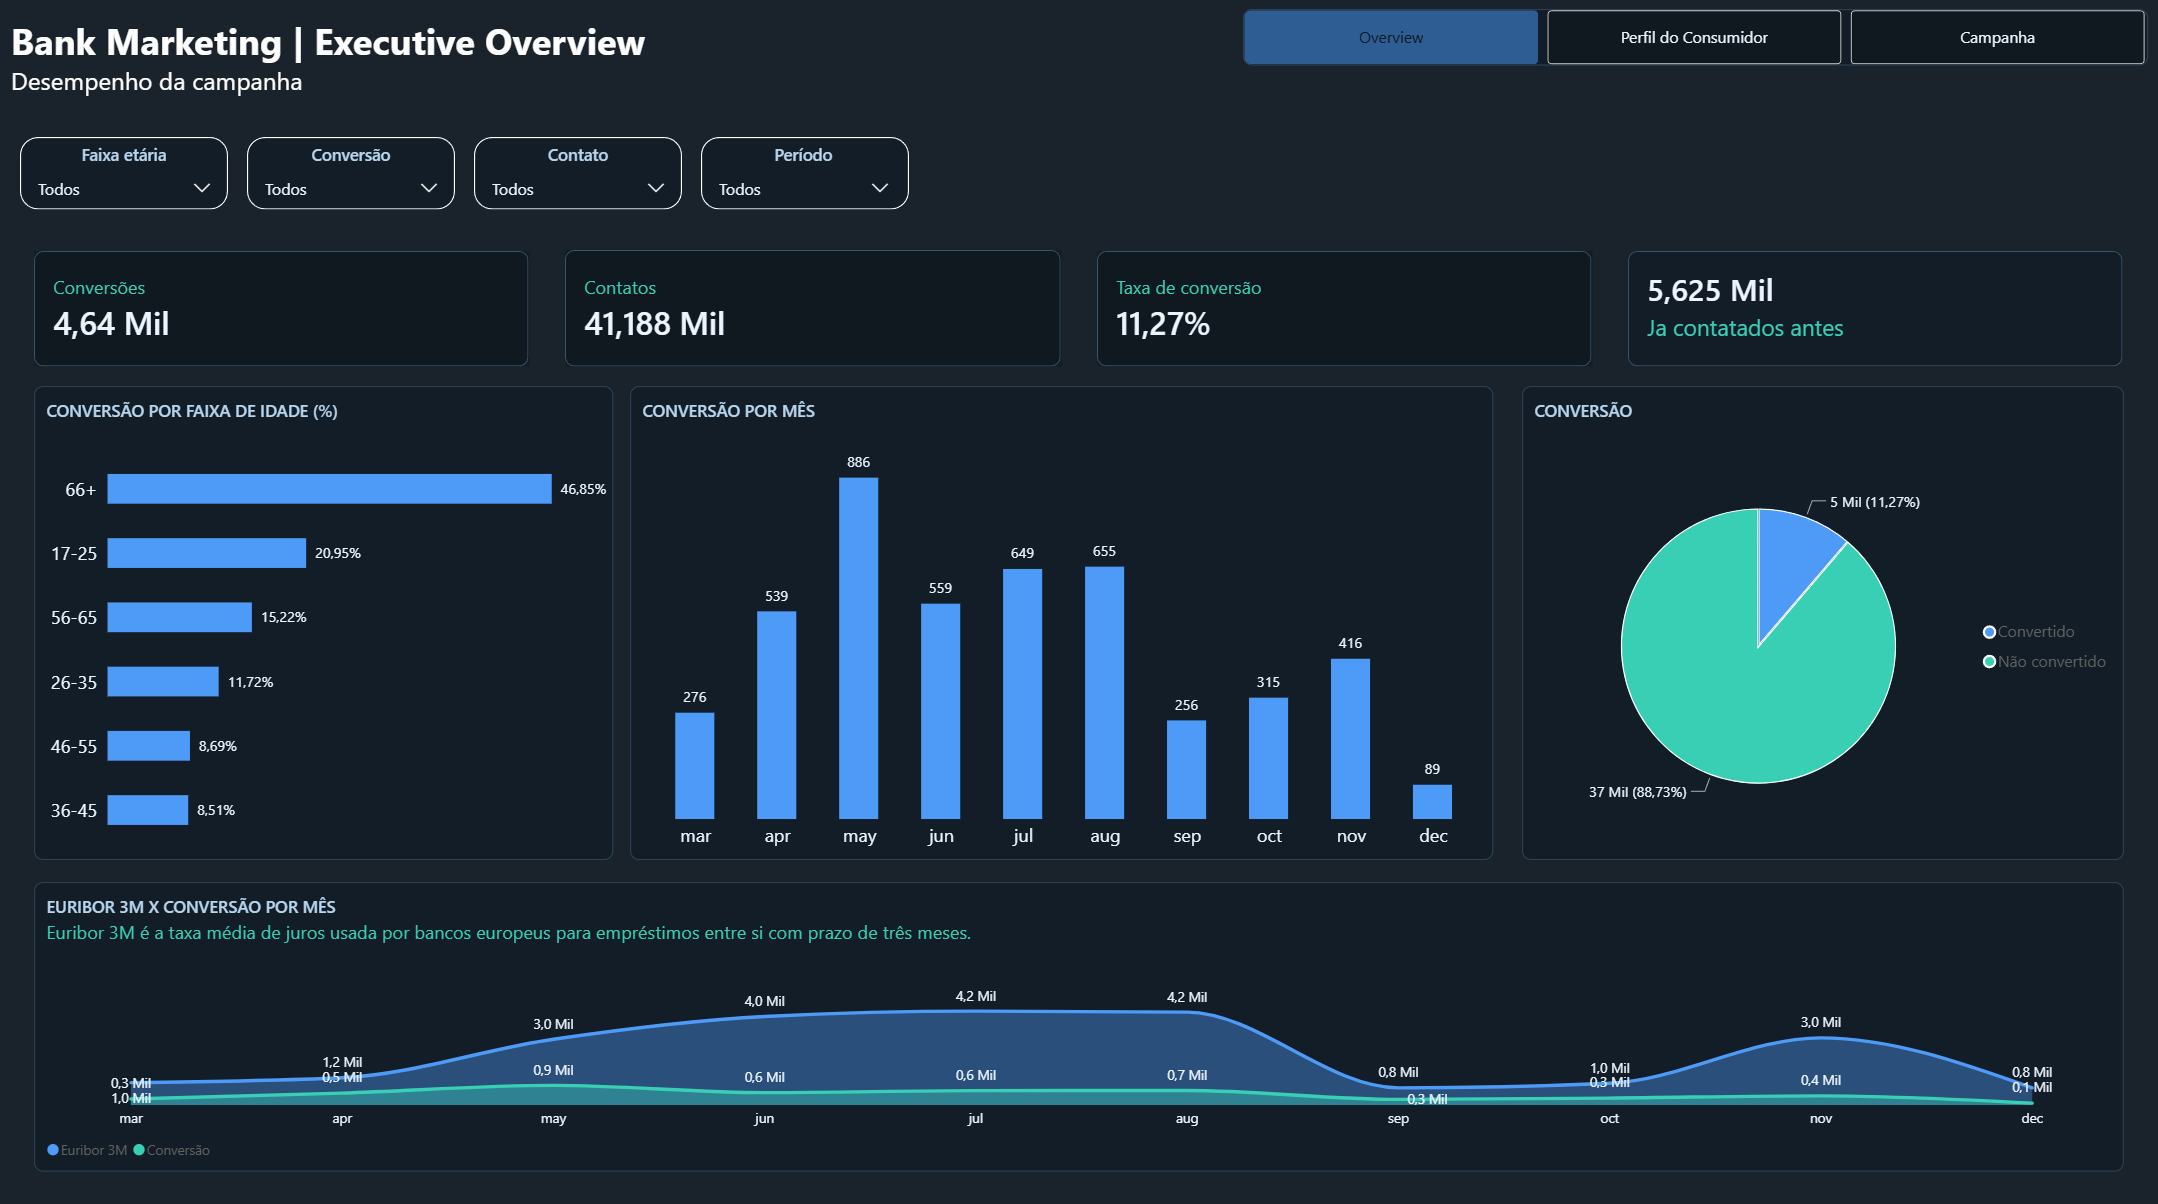

The page's visual inventory and layout, read from the dashboard file:
{"tool":"powerbi","page":{"name":"Overview","canvas":[1920,1080],"ordinal":0},"visuals":[{"type":"cardVisual","fields":{"Data":["vw_bank_marketing.Total Contacts"]},"box":[505.9,227.6,438.6,103.2],"z":0},{"type":"cardVisual","fields":{"Data":["vw_bank_marketing.Conversions"]},"box":[35.9,228.5,437.7,102.3],"z":1000},{"type":"cardVisual","fields":{"Data":["vw_bank_marketing.Conversion Rate"]},"box":[975.9,228.5,437.7,102.3],"z":2000},{"type":"cardVisual","title":"A","fields":{"Data":["vw_bank_marketing.Contacted Before"]},"box":[1444.9,228.5,437.7,102.3],"z":3000},{"type":"clusteredBarChart","title":"CONVERSÃO POR FAIXA DE IDADE (%)","fields":{"Category":["vw_bank_marketing.age_group"],"Y":["vw_bank_marketing.Conversion Rate"]},"box":[35.9,348.3,512.5,418.7],"z":4000},{"type":"clusteredColumnChart","title":"CONVERSÃO POR MÊS","fields":{"Category":["vw_bank_marketing.month"],"Y":["Sum(vw_bank_marketing.converted)"]},"box":[563,348.3,763.2,418.7],"z":5000},{"type":"shape","box":[224.7,128.1,183.8,64.1],"z":6000},{"type":"shape","box":[425.2,128.1,183.8,64.1],"z":7000},{"type":"shape","box":[625.8,128.1,183.8,64.1],"z":8000},{"type":"pieChart","title":"CONVERSÃO","fields":{"Y":["vw_bank_marketing.Convertido","vw_bank_marketing.Não convertido"]},"box":[1350.9,348.3,532,418.7],"z":9000},{"type":"shape","box":[24.1,128.1,183.8,64.1],"z":10000},{"type":"textbox","box":[15.7,20.3,575,85.7],"z":11000},{"type":"slicer","title":"Contato","fields":{"Values":["vw_bank_marketing.contact"]},"box":[425.2,128.1,183.8,64.1],"z":12000},{"type":"slicer","title":"Período","fields":{"Values":["vw_bank_marketing.month"]},"box":[625.8,128.1,181,64],"z":13000},{"type":"slicer","title":"Faixa etária","fields":{"Values":["vw_bank_marketing.age_group"]},"box":[24.1,128.1,183.8,64.1],"z":14000},{"type":"slicer","title":"Conversão","fields":{"Values":["vw_bank_marketing.Status Conversão"]},"box":[224.7,128.1,183.8,64.1],"z":15000},{"type":"areaChart","title":"EURIBOR 3M X CONVERSÃO POR MÊS","fields":{"Category":["vw_bank_marketing.month"],"Y":["Avg(vw_bank_marketing.euribor3m)","vw_bank_marketing.Conversions"]},"box":[35.9,787,1846.7,256.2],"z":16000},{"type":"pageNavigator","box":[1104.7,15,800.3,50.1],"z":17000}]}

Visuals, with their boxes in screenshot pixels (x1, y1, x2, y2), scaled from the page's 1920x1080 canvas onto the 2158x1204 screenshot:
cardVisual - vw_bank_marketing.Total Contacts: crop(569, 254, 1062, 369)
cardVisual - vw_bank_marketing.Conversions: crop(40, 255, 532, 369)
cardVisual - vw_bank_marketing.Conversion Rate: crop(1097, 255, 1589, 369)
"A" cardVisual: crop(1624, 255, 2116, 369)
"CONVERSÃO POR FAIXA DE IDADE (%)" clusteredBarChart: crop(40, 388, 616, 855)
"CONVERSÃO POR MÊS" clusteredColumnChart: crop(633, 388, 1491, 855)
shape: crop(253, 143, 459, 214)
shape: crop(478, 143, 684, 214)
shape: crop(703, 143, 910, 214)
"CONVERSÃO" pieChart: crop(1518, 388, 2116, 855)
shape: crop(27, 143, 234, 214)
textbox: crop(18, 23, 664, 118)
"Contato" slicer: crop(478, 143, 684, 214)
"Período" slicer: crop(703, 143, 907, 214)
"Faixa etária" slicer: crop(27, 143, 234, 214)
"Conversão" slicer: crop(253, 143, 459, 214)
"EURIBOR 3M X CONVERSÃO POR MÊS" areaChart: crop(40, 877, 2116, 1163)
pageNavigator: crop(1242, 17, 2141, 73)
